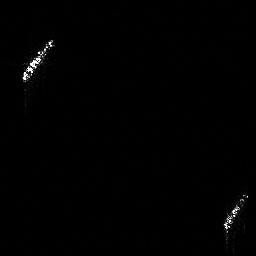ship: (18, 35, 58, 85), (219, 189, 250, 240)
